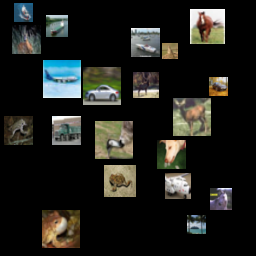airplane: (43, 60, 81, 98), (165, 173, 191, 199)
automobile: (83, 67, 121, 105), (209, 77, 228, 96)
bird: (95, 121, 133, 159), (162, 43, 178, 59)
deer: (173, 98, 211, 136), (12, 25, 41, 54), (133, 72, 159, 98)
dog: (157, 140, 186, 169)
frog: (42, 210, 80, 248), (104, 165, 136, 197), (4, 116, 33, 145)
ship: (131, 28, 160, 57), (46, 15, 68, 37), (187, 215, 206, 234), (14, 3, 33, 22)
